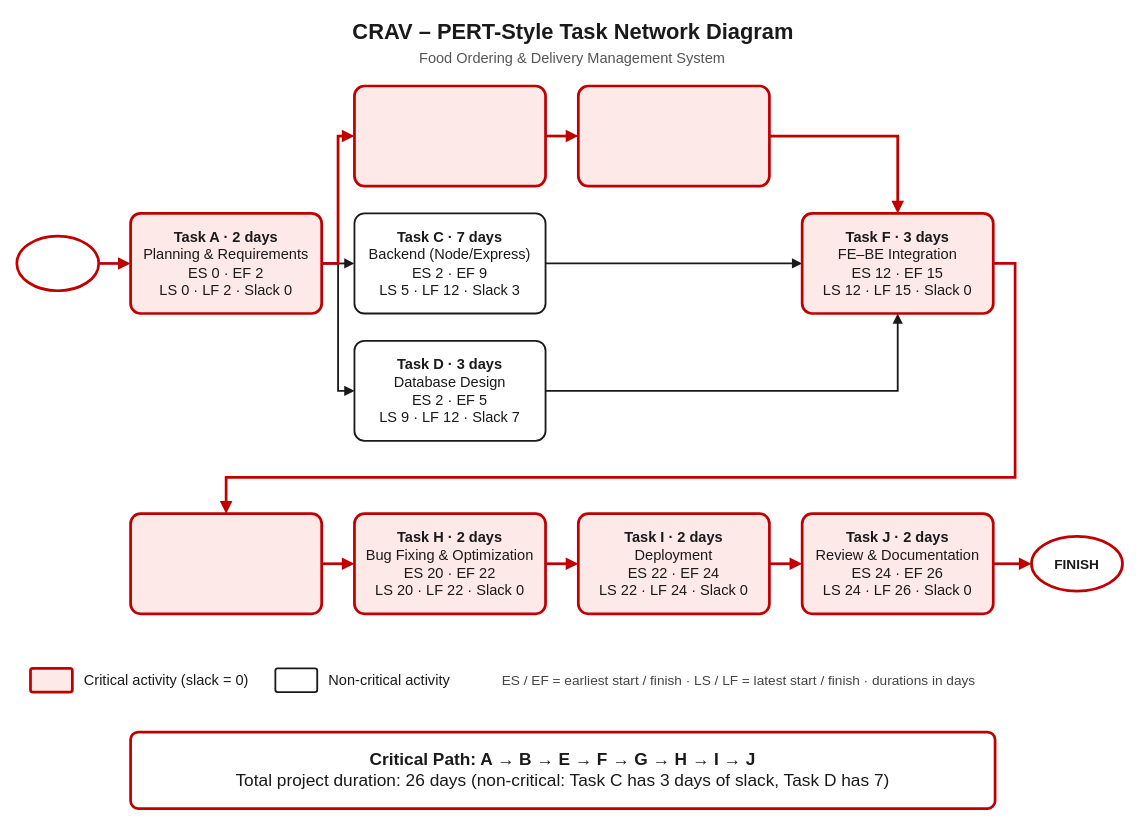
Image size: 1139x825. Some labels were removed from this diagram. The centre of each missing label's shape, as x and y in pixels:
"START" goes at pixel 57 263.
"Task B · 3 days UI/UX Design ES 2 · EF 5 LS 2 · LF 5 · Slack 0" goes at pixel 449 135.
"Task E · 7 days Frontend (HTML/CSS/JS) ES 5 · EF 12 LS 5 · LF 12 · Slack 0" goes at pixel 673 135.
"Task G · 5 days System Testing ES 15 · EF 20 LS 15 · LF 20 · Slack 0" goes at pixel 226 563.
